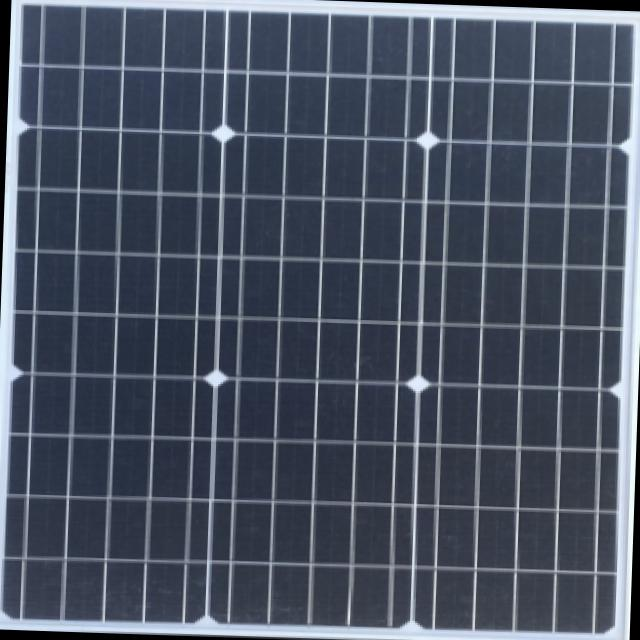no faulty: (2, 1, 628, 638)
